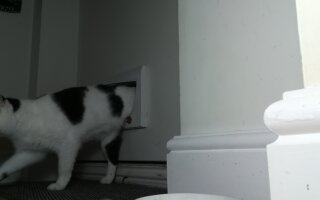bad: (1, 80, 143, 192)
